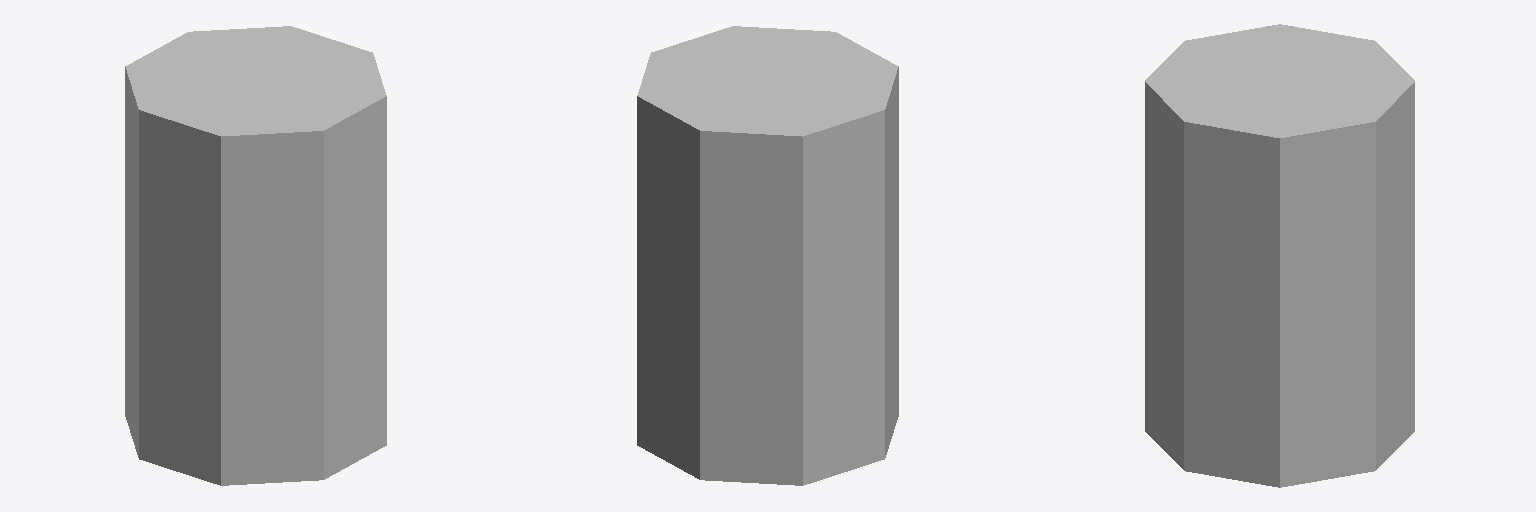
The model's file is Can.obj.
3 views of the same model, side by side, from view 1: azimuth 30°, elevation 25°; view 2: azimuth 150°, elevation 25°; view 3: azimuth 270°, elevation 25° (orthographic).
Visible parts, largest first — view 1: Can; view 2: Can; view 3: Can.
Boxes of the visible parts, box(x1,y1,x2,y2) form: Can: box(125, 26, 386, 485); Can: box(637, 26, 898, 485); Can: box(1145, 24, 1414, 487).
Bounding box in the file's own units: 0.2 × 0.2849 × 0.2.